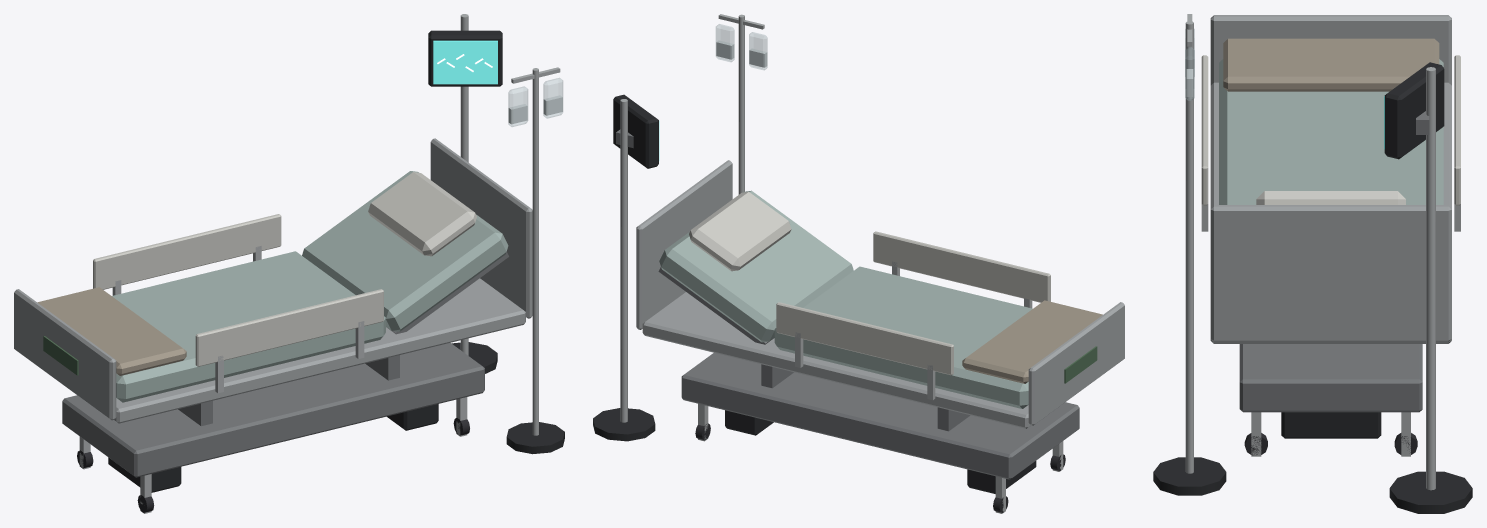
Rendered from astro_med_bay_cot.fbx.
The picture shows the model from 3 angles, left to right: view 1: azimuth 30°, elevation 25°; view 2: azimuth 150°, elevation 25°; view 3: azimuth 270°, elevation 25°; orthographic projection. The views are drawn at different scales.
Parts seen in each view (by area): view 1: MedBayCot_Body; view 2: MedBayCot_Body; view 3: MedBayCot_Body.
Part boxes in pixels (box(x1,y1,x2,y2)): MedBayCot_Body: box(14, 14, 564, 513); MedBayCot_Body: box(593, 14, 1124, 513); MedBayCot_Body: box(1153, 14, 1472, 513).
Bounding box in the file's own units: 404 × 305 × 192.
